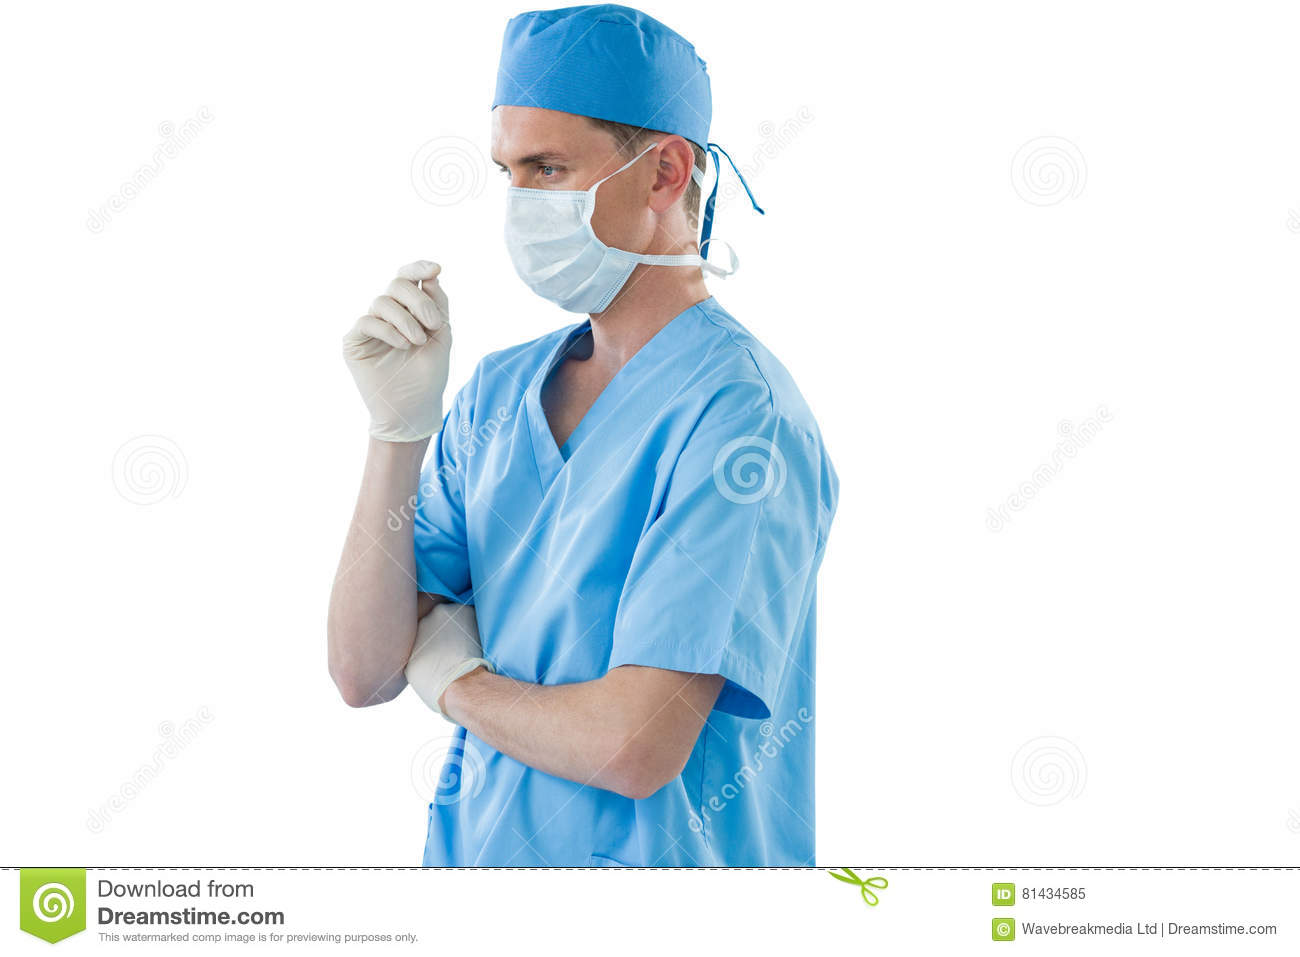mask: (498, 180, 638, 323)
